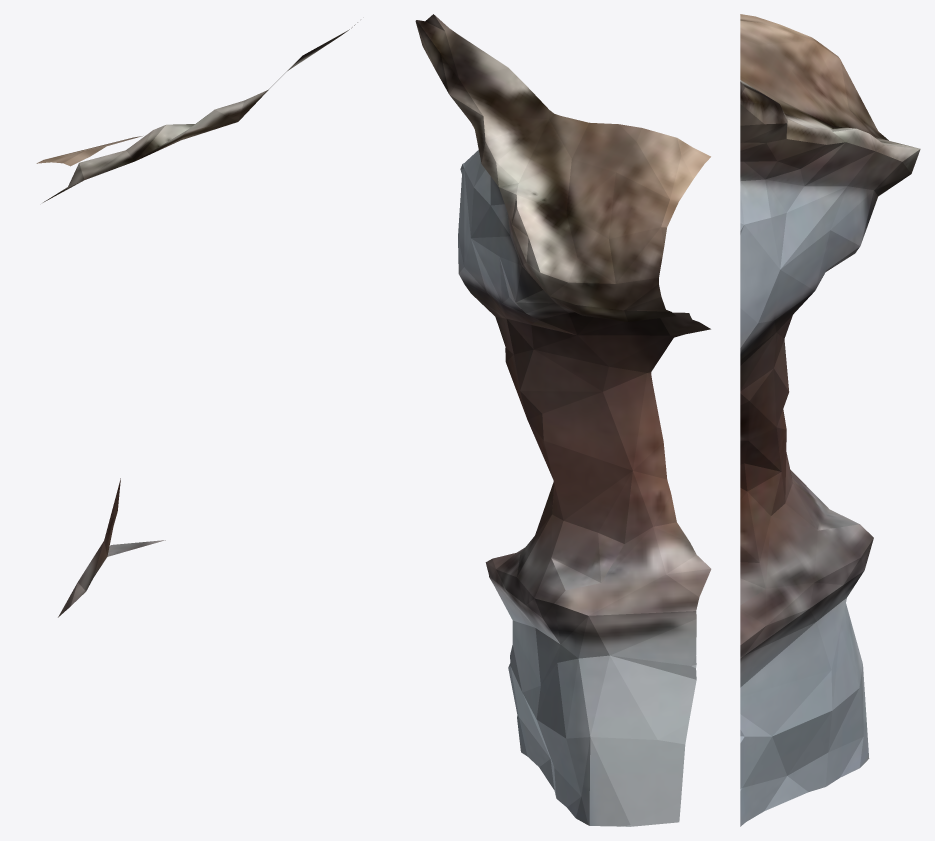
The picture shows the model from 3 angles, left to right: view 1: azimuth 30°, elevation 25°; view 2: azimuth 150°, elevation 25°; view 3: azimuth 270°, elevation 25°; orthographic projection. The views are drawn at different scales.
Bounding box in the file's own units: 0.2952 × 0.6833 × 0.1409.
1 material, 1 textured.
